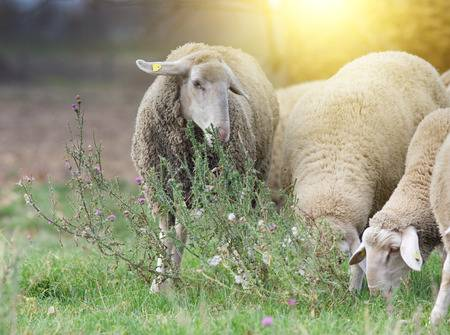sheep: (125, 39, 280, 299), (361, 105, 448, 327), (288, 56, 364, 307)
